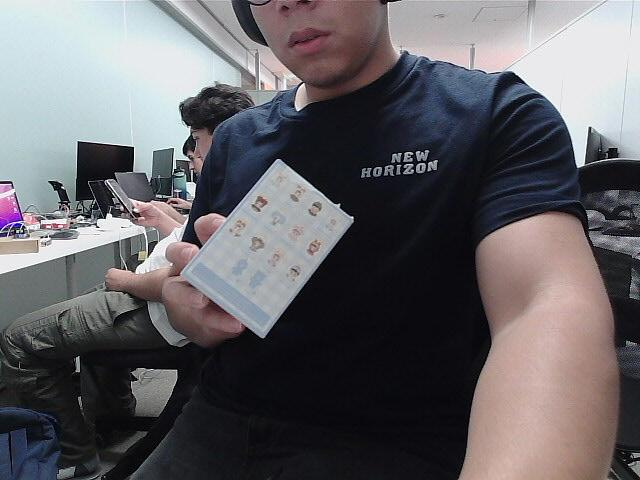Blind_box: (196, 153, 358, 345)
